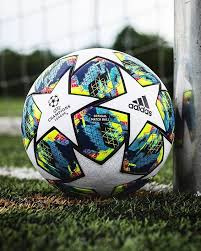football ball: (19, 46, 175, 199)
